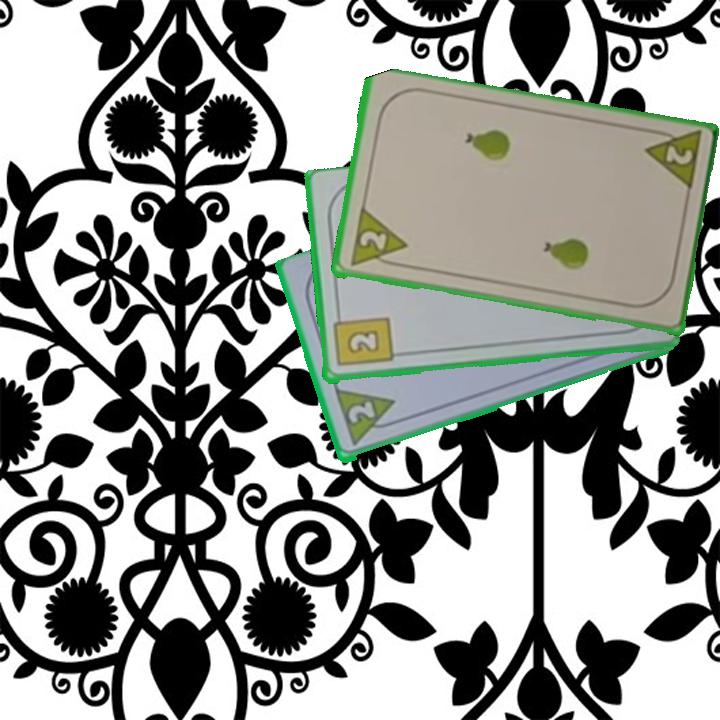2b: (330, 309, 395, 370)
2p: (331, 386, 403, 450), (640, 124, 703, 195), (346, 206, 410, 271)
